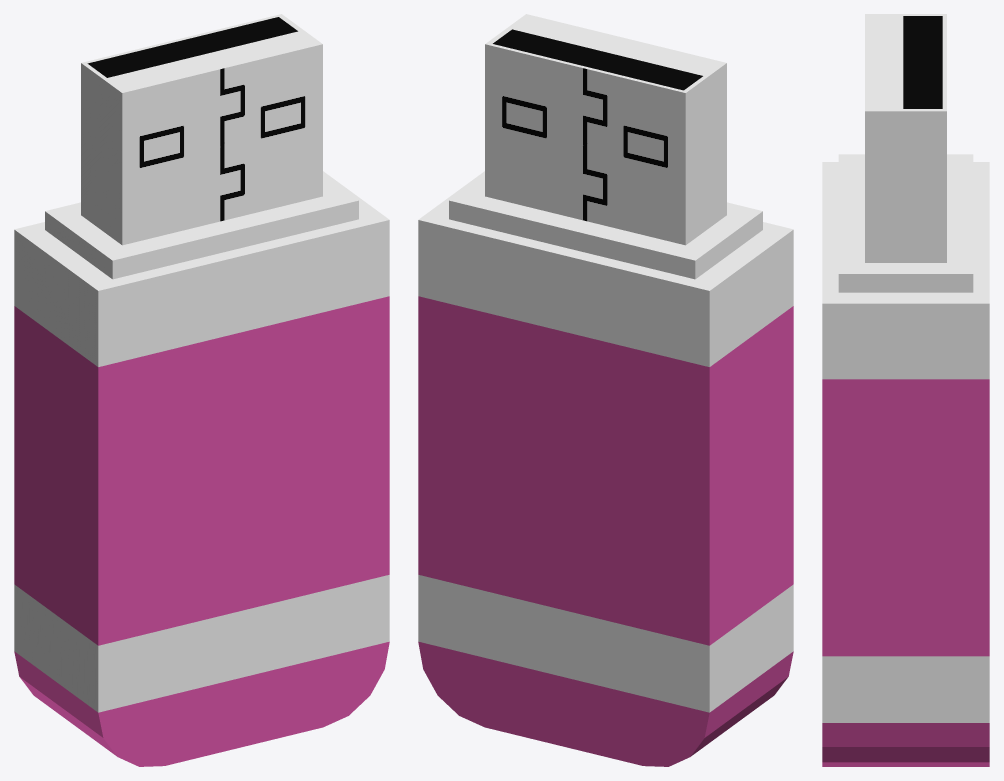
The model's file is usb_1.glb.
The picture shows the model from 3 angles, left to right: view 1: azimuth 30°, elevation 25°; view 2: azimuth 150°, elevation 25°; view 3: azimuth 270°, elevation 25°; orthographic projection.
Parts seen in each view (by area): view 1: Obj_usb_1; view 2: Obj_usb_1; view 3: Obj_usb_1.
Part boxes in pixels (x1,y1,x2,y2): Obj_usb_1: (14, 14, 389, 766); Obj_usb_1: (418, 14, 793, 766); Obj_usb_1: (822, 14, 989, 766).
Size of the model in its own units: 0.9289 by 2.02 by 0.4645.
2 materials, 1 textured.
